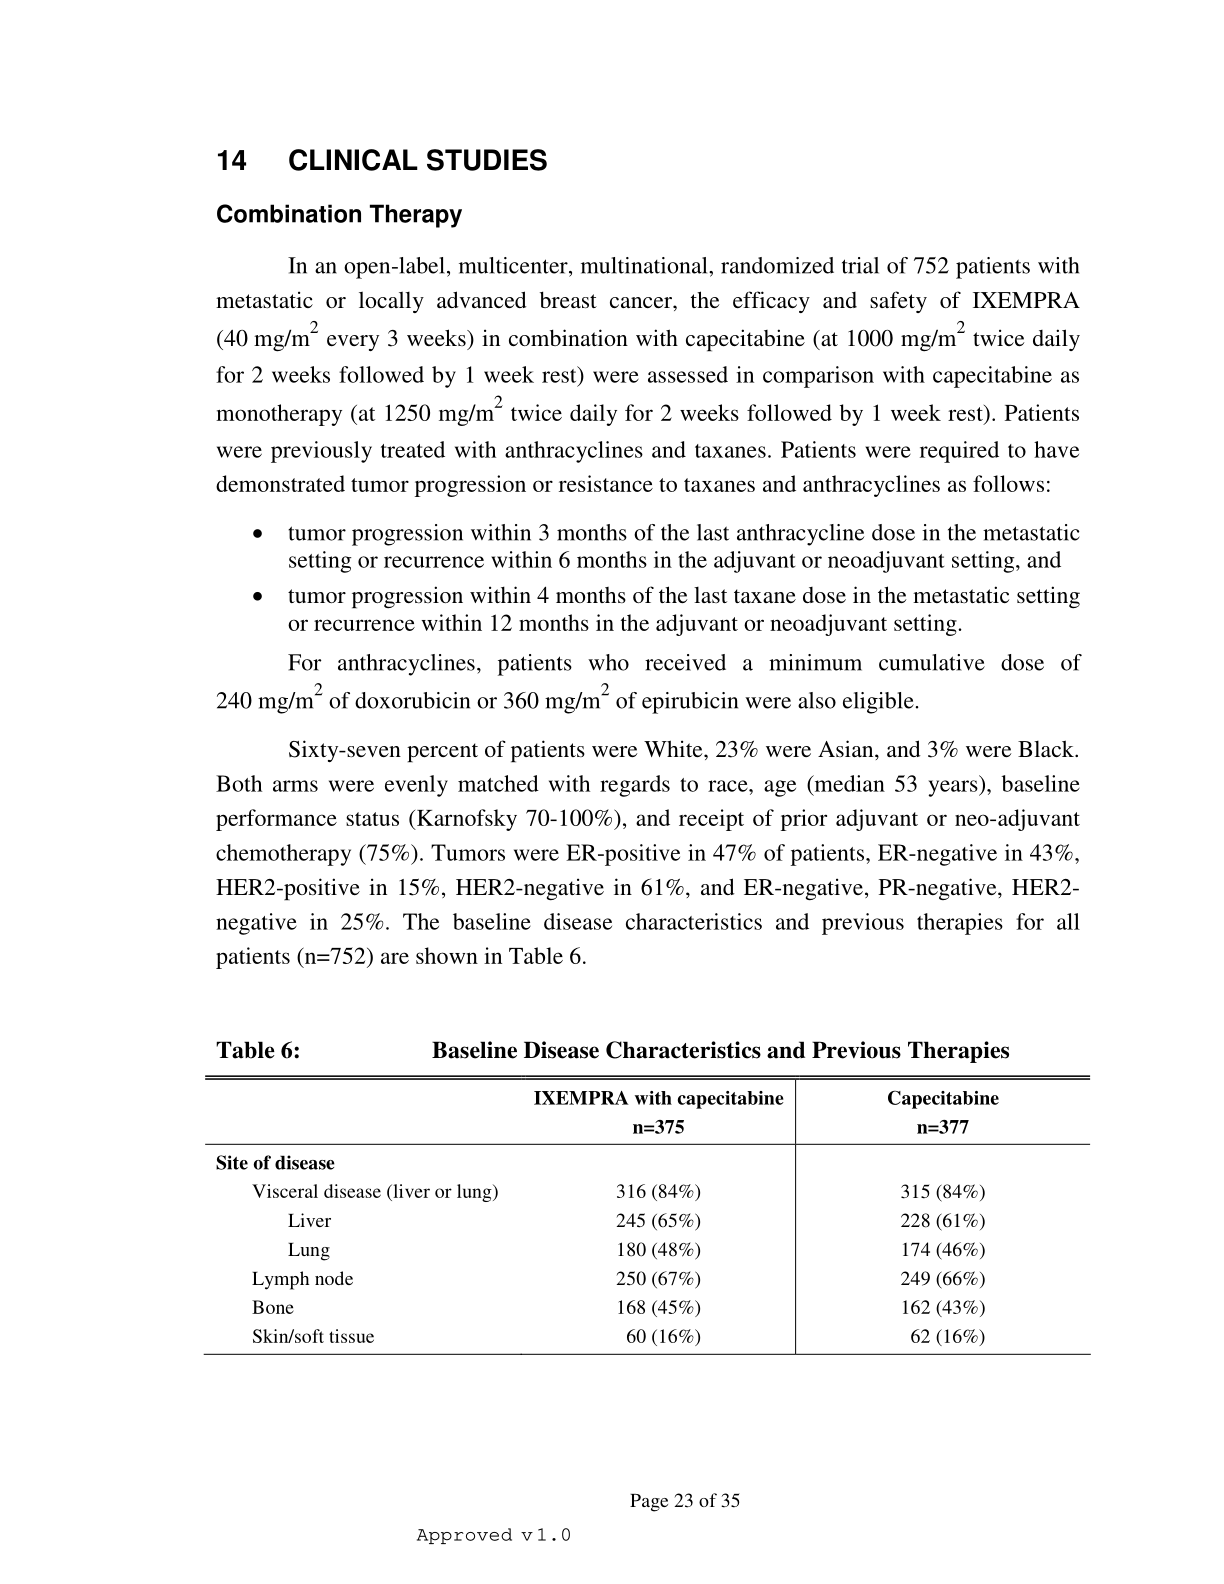partial_lined: (203, 1075, 1092, 1356)
